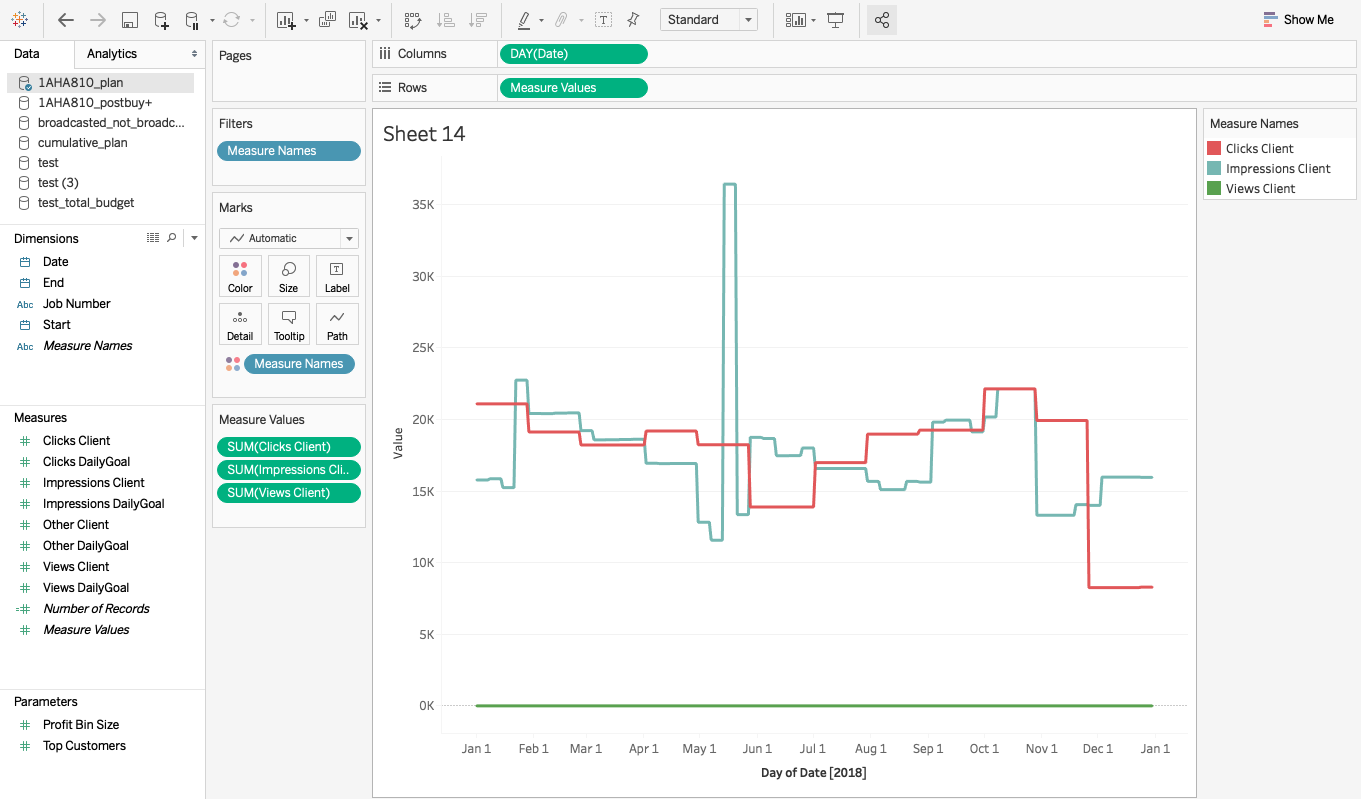

Layout of this report page (visuals, bound fields, positions):
{"tool":"tableau","page":{"name":"Dashboard 2","canvas":[1000,800],"ordinal":0},"visuals":[{"type":"worksheet","title":"Sheet 14","mark":"Automatic","cols":["Date"],"box":[33,33,921,222]},{"type":"legend","title":"Sheet 14","param":"[federated.10b79rn1rb48xm15pry8e08aiqar].[:Measure Names]","box":[853,267,140,78]}]}

Visuals, with their boxes on the page's 1000x800 design canvas (x1, y1, x2, y2). These are canvas units, not pixel positions in the 1361x799 screenshot, which may show the page scaled, cropped or inside an application window:
"Sheet 14" worksheet: {"x1": 33, "y1": 33, "x2": 954, "y2": 255}
"Sheet 14" legend: {"x1": 853, "y1": 267, "x2": 993, "y2": 345}
